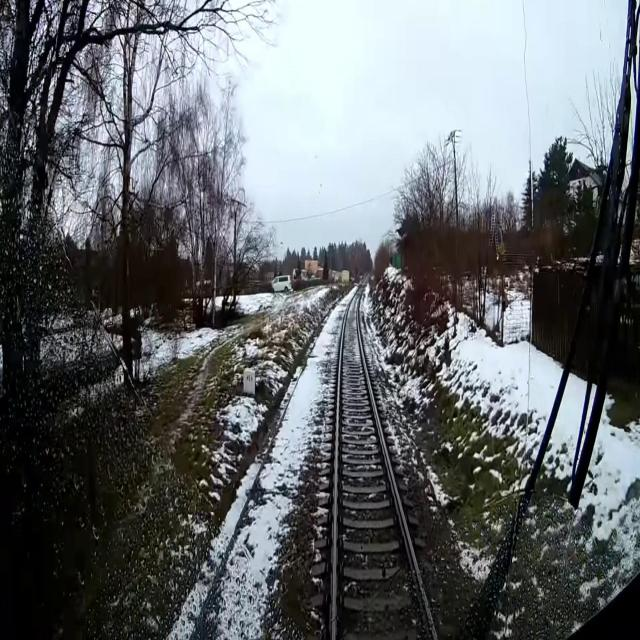rail-track: (336, 279, 433, 639)
